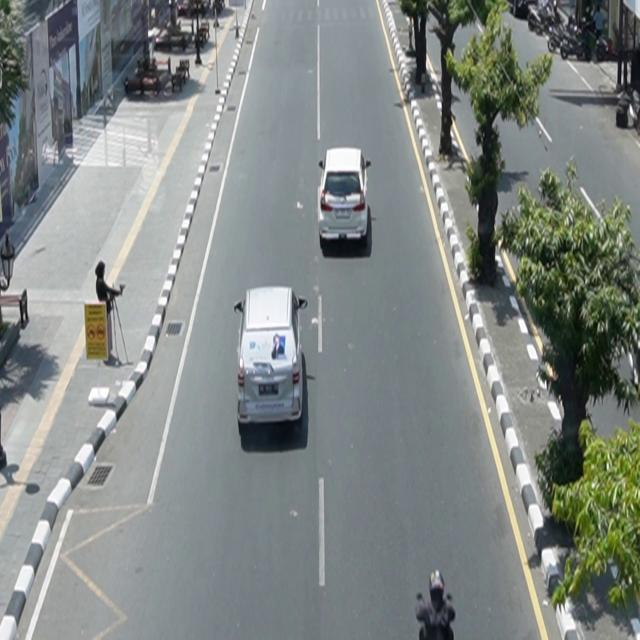car: (234, 285, 309, 433), (318, 148, 372, 248)
